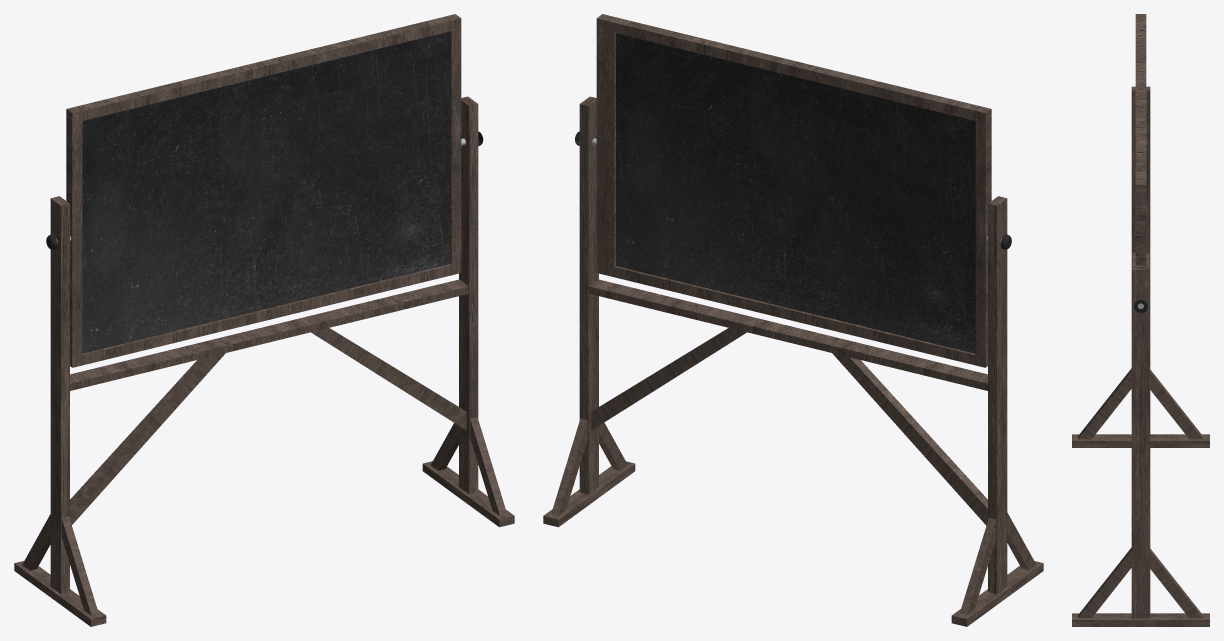
Rendered from chalkboard.fbx.
3 views of the same model, side by side, from view 1: azimuth 30°, elevation 25°; view 2: azimuth 150°, elevation 25°; view 3: azimuth 270°, elevation 25° (orthographic). The views are drawn at different scales.
Visible parts, largest first — view 1: node_910b8722_a6e3_4700_b478_53f1f5bdcfb7_mesh1, node_ae6a4071_6201_46c5_96d8_e1991c7b0eb8_mesh0, node_910b8722_a6e3_4700_b478_53f1f5bdcfb7_mesh0; view 2: node_910b8722_a6e3_4700_b478_53f1f5bdcfb7_mesh1, node_ae6a4071_6201_46c5_96d8_e1991c7b0eb8_mesh0, node_910b8722_a6e3_4700_b478_53f1f5bdcfb7_mesh0; view 3: node_ae6a4071_6201_46c5_96d8_e1991c7b0eb8_mesh0, node_910b8722_a6e3_4700_b478_53f1f5bdcfb7_mesh0.
Part boxes in pixels (x1=…): node_910b8722_a6e3_4700_b478_53f1f5bdcfb7_mesh1: x1=82, y1=31, x2=450, y2=353; node_ae6a4071_6201_46c5_96d8_e1991c7b0eb8_mesh0: x1=14, y1=96, x2=514, y2=626; node_910b8722_a6e3_4700_b478_53f1f5bdcfb7_mesh0: x1=66, y1=14, x2=461, y2=367; node_910b8722_a6e3_4700_b478_53f1f5bdcfb7_mesh1: x1=616, y1=33, x2=975, y2=353; node_ae6a4071_6201_46c5_96d8_e1991c7b0eb8_mesh0: x1=543, y1=96, x2=1043, y2=626; node_910b8722_a6e3_4700_b478_53f1f5bdcfb7_mesh0: x1=596, y1=14, x2=991, y2=367; node_ae6a4071_6201_46c5_96d8_e1991c7b0eb8_mesh0: x1=1072, y1=86, x2=1209, y2=626; node_910b8722_a6e3_4700_b478_53f1f5bdcfb7_mesh0: x1=1135, y1=14, x2=1146, y2=265.
Bounding box in the file's own units: 195 × 208 × 59.77.
4 materials, 2 textured.
